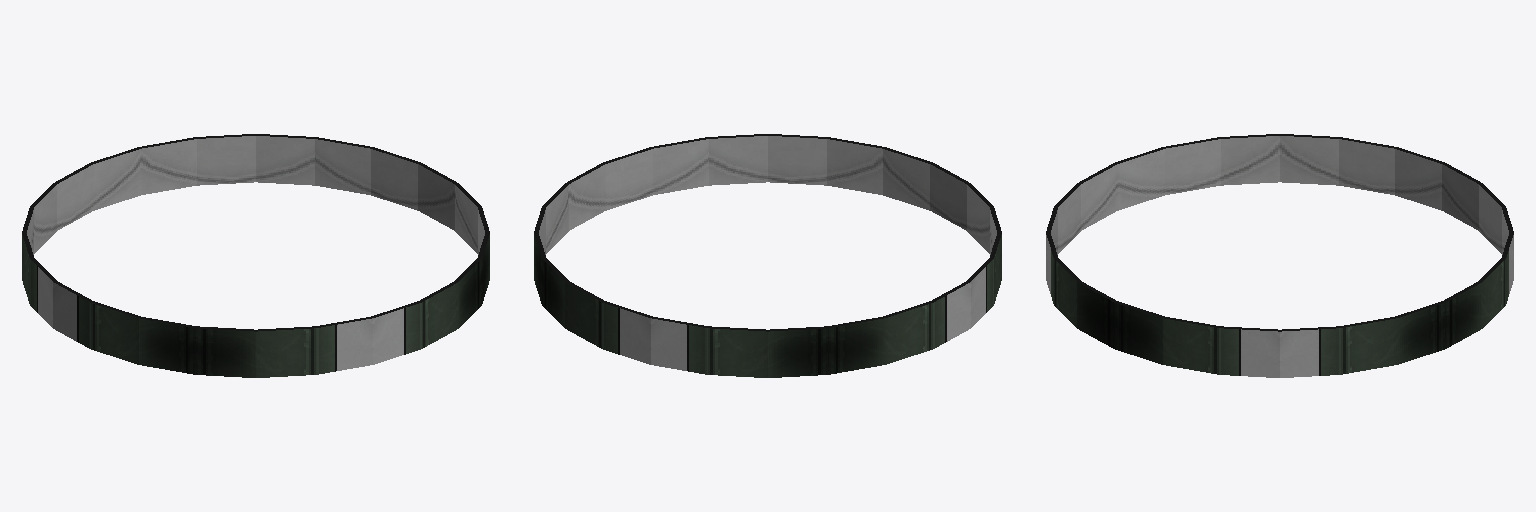
3 renders of one model, left to right at view 1: azimuth 30°, elevation 25°; view 2: azimuth 150°, elevation 25°; view 3: azimuth 270°, elevation 25°, orthographic.
Visible parts, largest first — view 1: mesh1; view 2: mesh1; view 3: mesh1.
Part boxes in pixels (x1,y1,x2,y2): mesh1: (22,134,489,377); mesh1: (534,134,1001,377); mesh1: (1046,134,1513,377).
Size of the model in its own units: 2.5 by 0.275 by 2.5.
Materials: 1 (1 with a texture image).